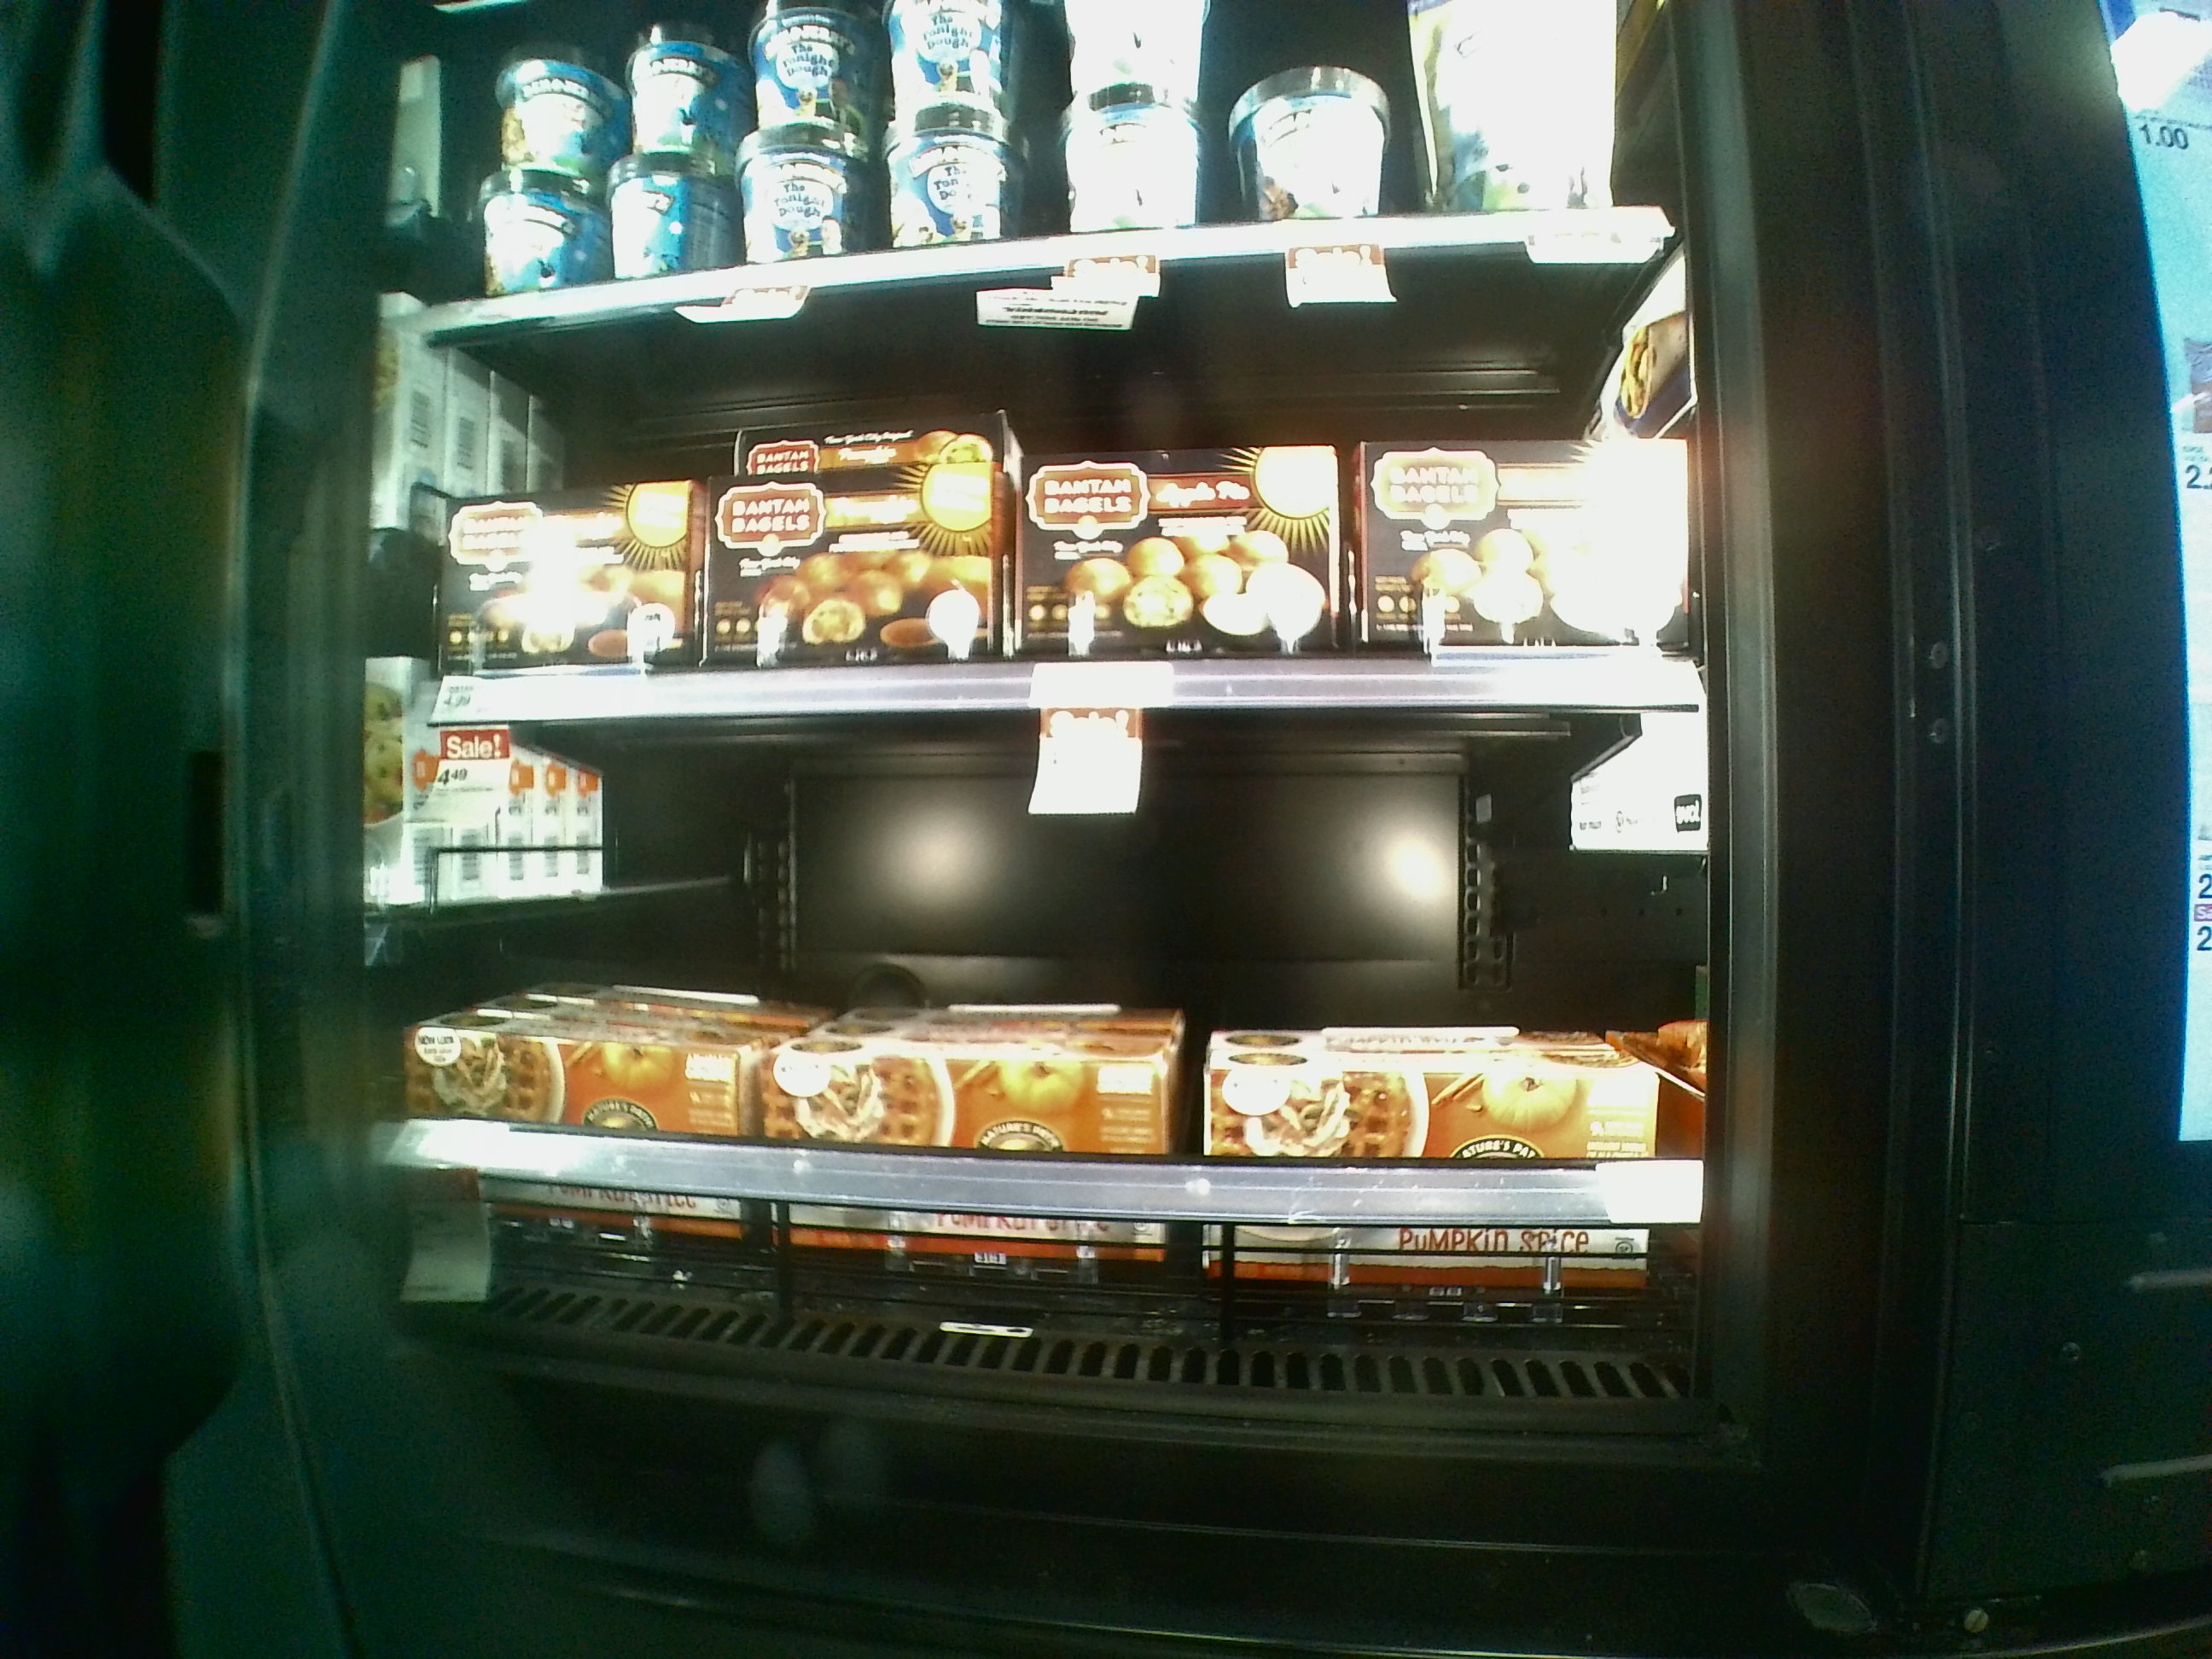shelf: (404, 674, 1716, 1436), (418, 249, 1702, 699)
